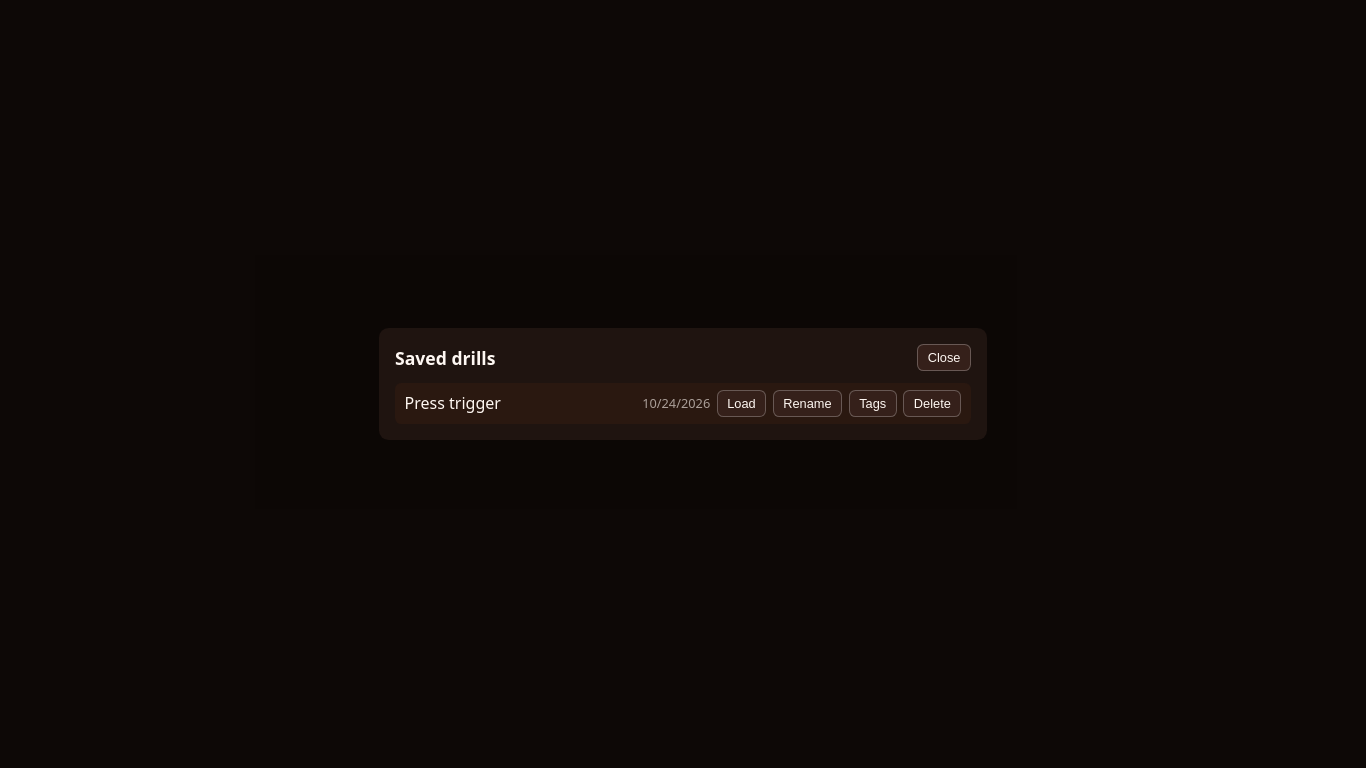
Test: renaming › tells the coach when a rename fails, rather than swallowing the error
The width and height of the screenshot is (1366, 768).
Click the button "Rename" at (808, 403), box [773,390,842,417]
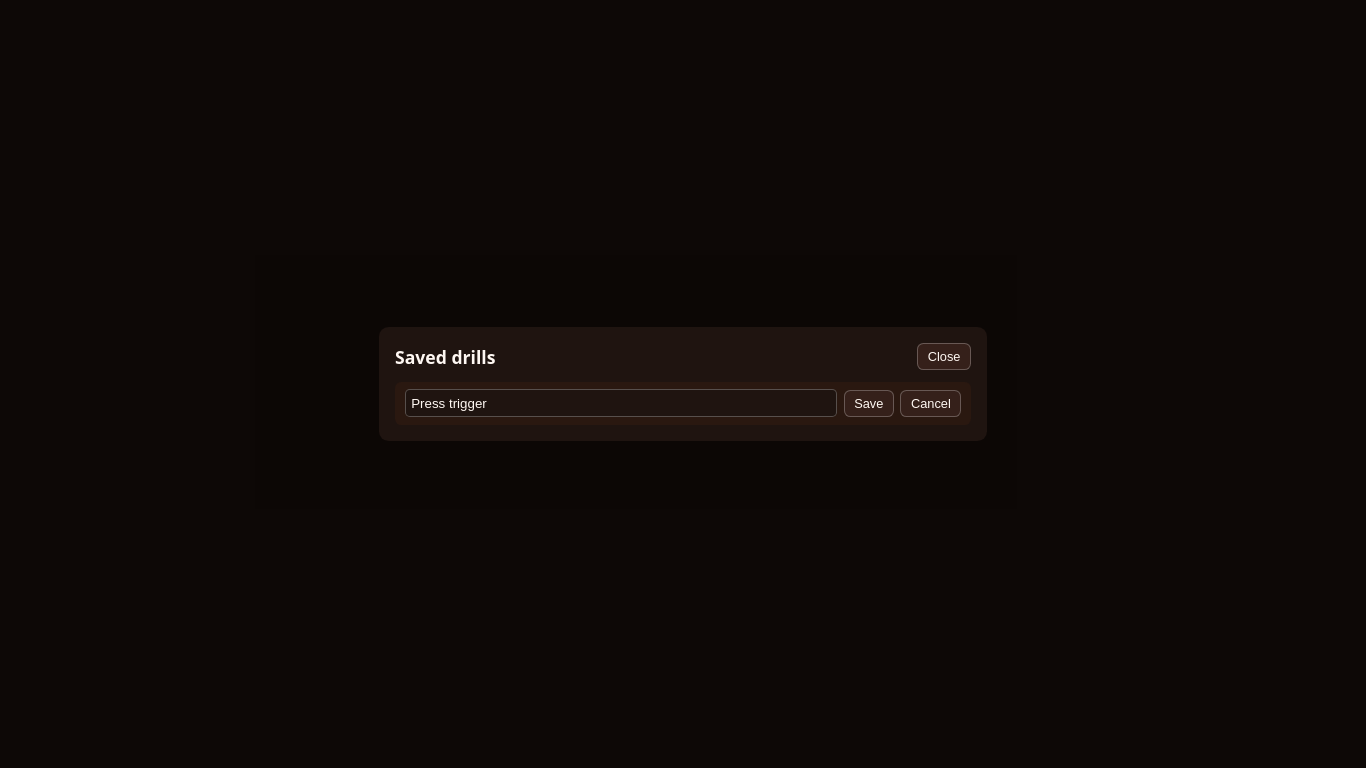
Replace the text in the field with "Counter press" at (621, 403), box [405,389,837,417]
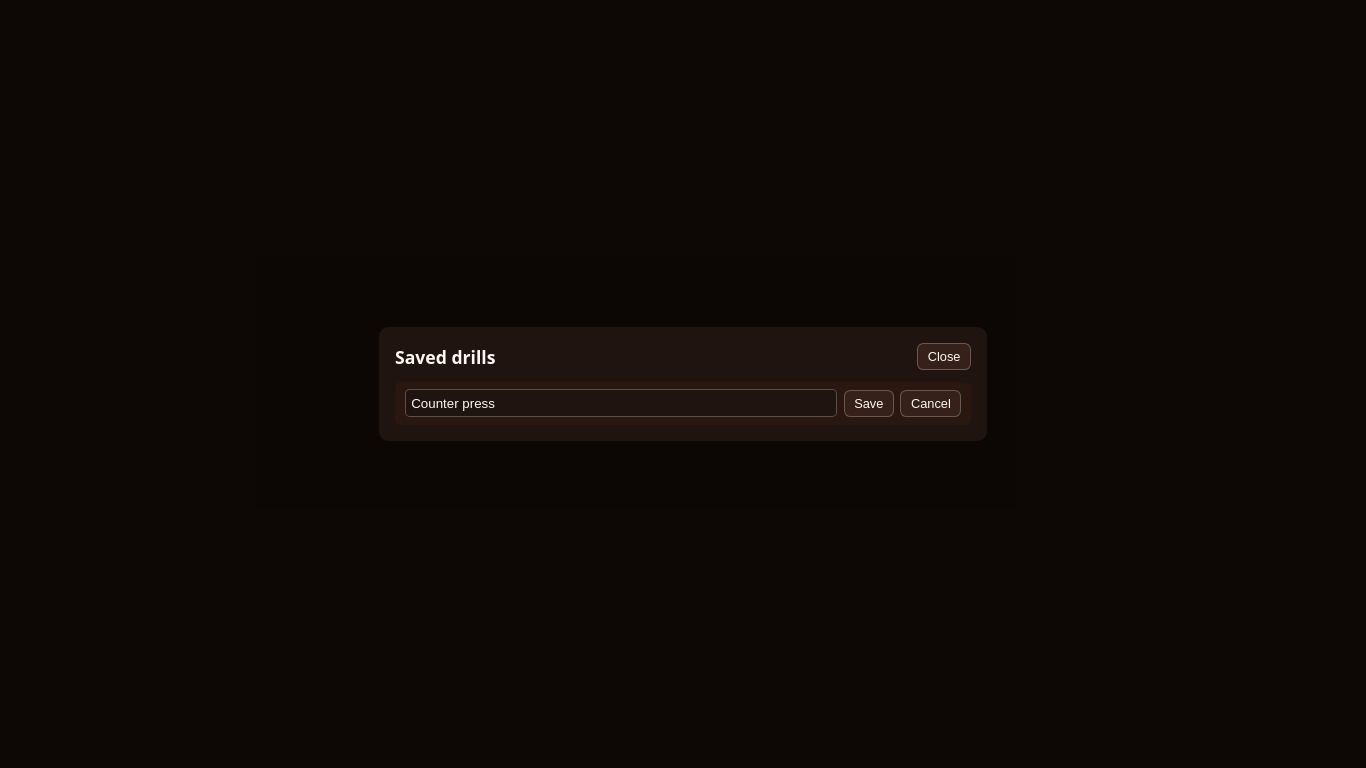
Click the button "Save" at (869, 403), box [844,390,894,417]
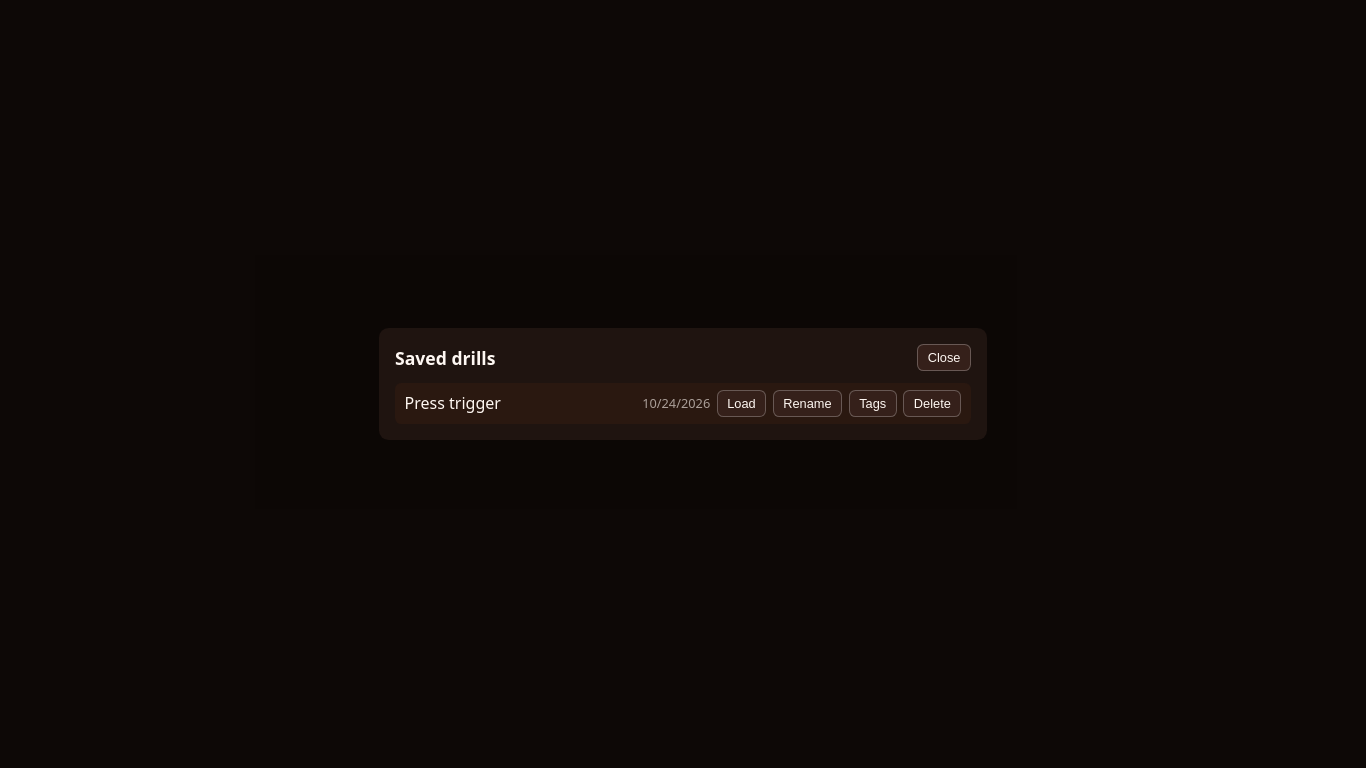
Check: the text "Press trigger" is shown, box [405,392,501,414]
